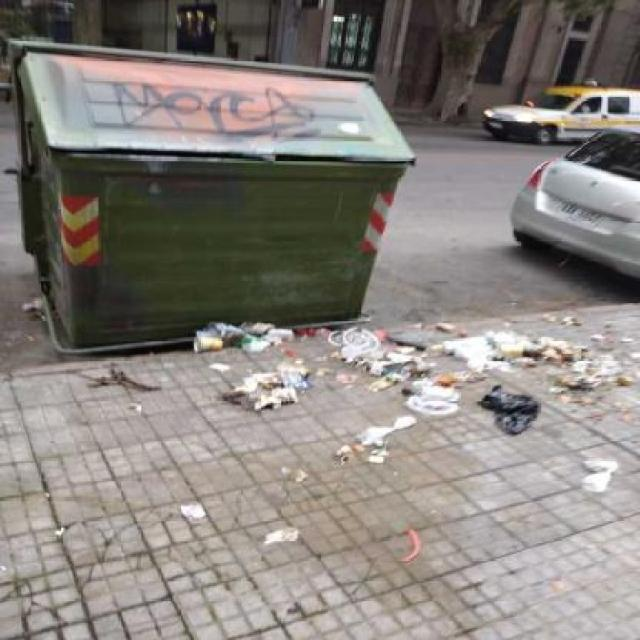garbage: (185, 305, 640, 492)
